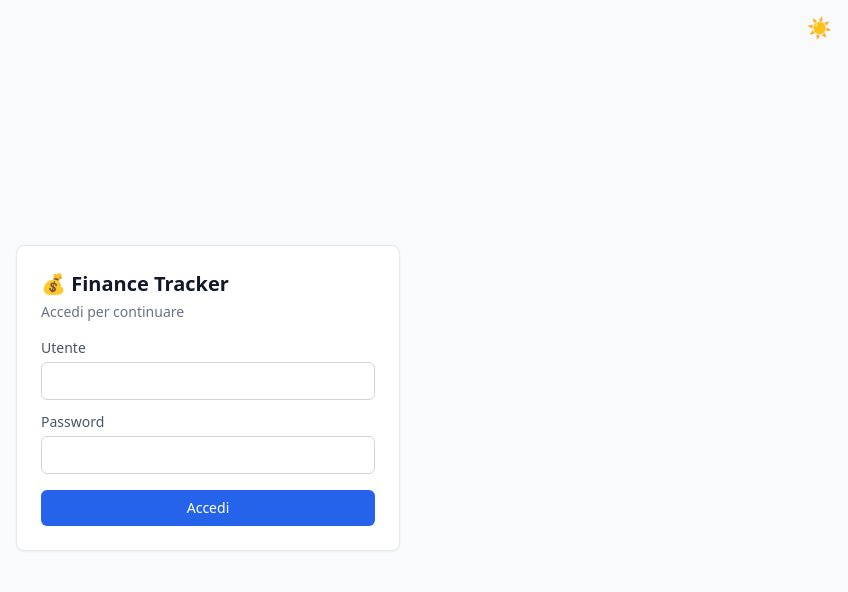
Test case: LoginPage › shows an error message on failed login
Type "admin" into the field labelled "Utente" at (208, 381), box x1=41 y1=362 x2=375 y2=400
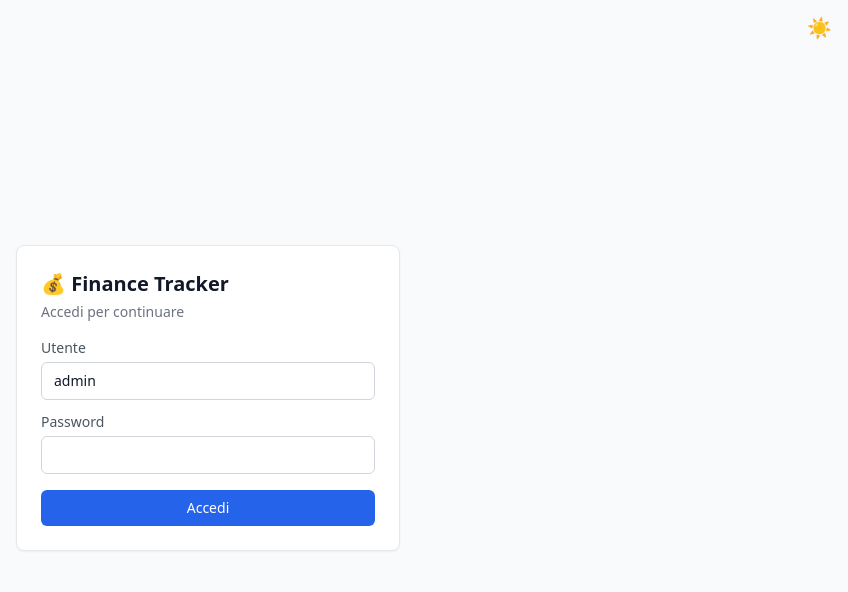
Type "wrong" into the password field labelled "Password" at (208, 455), box x1=41 y1=436 x2=375 y2=474
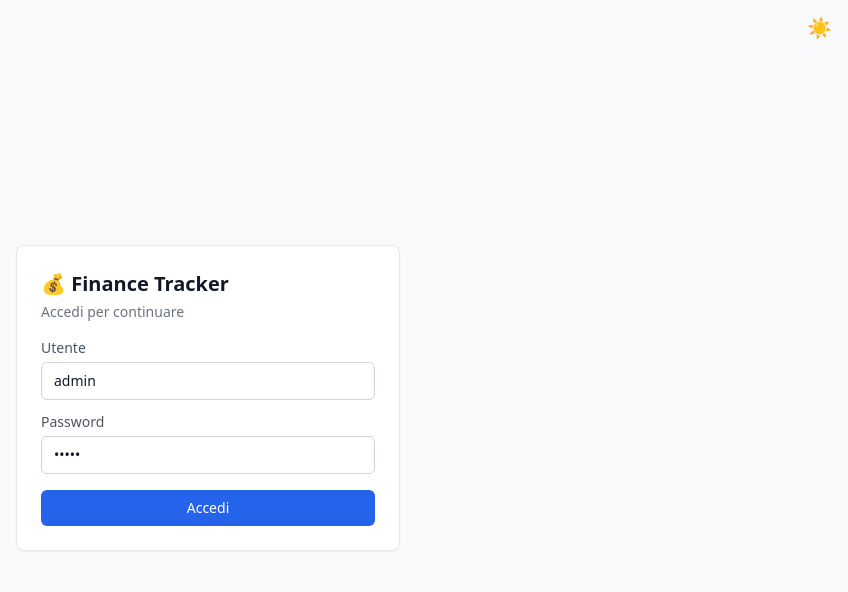
Click the button "Accedi" at (208, 508), box x1=41 y1=490 x2=375 y2=526
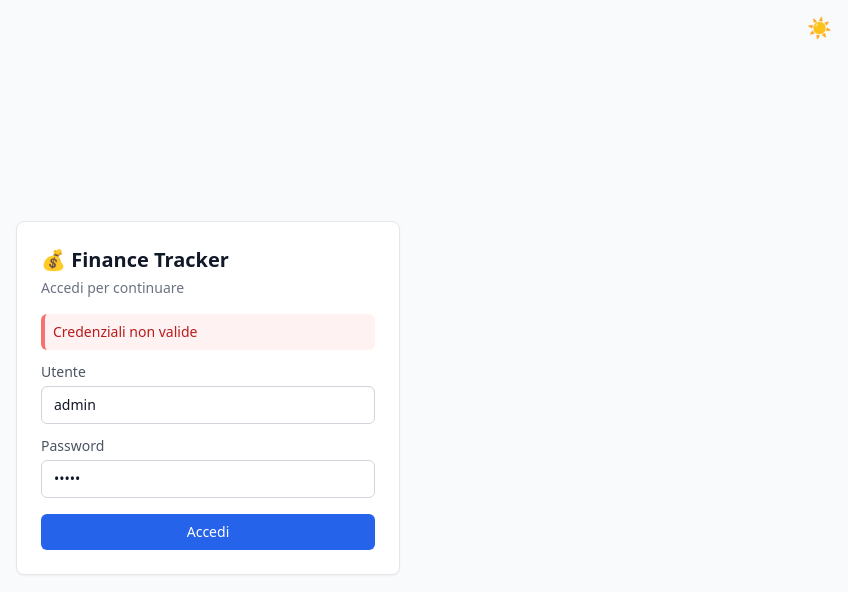
Check: the text "Credenziali non valide" is shown, box x1=41 y1=314 x2=375 y2=350
